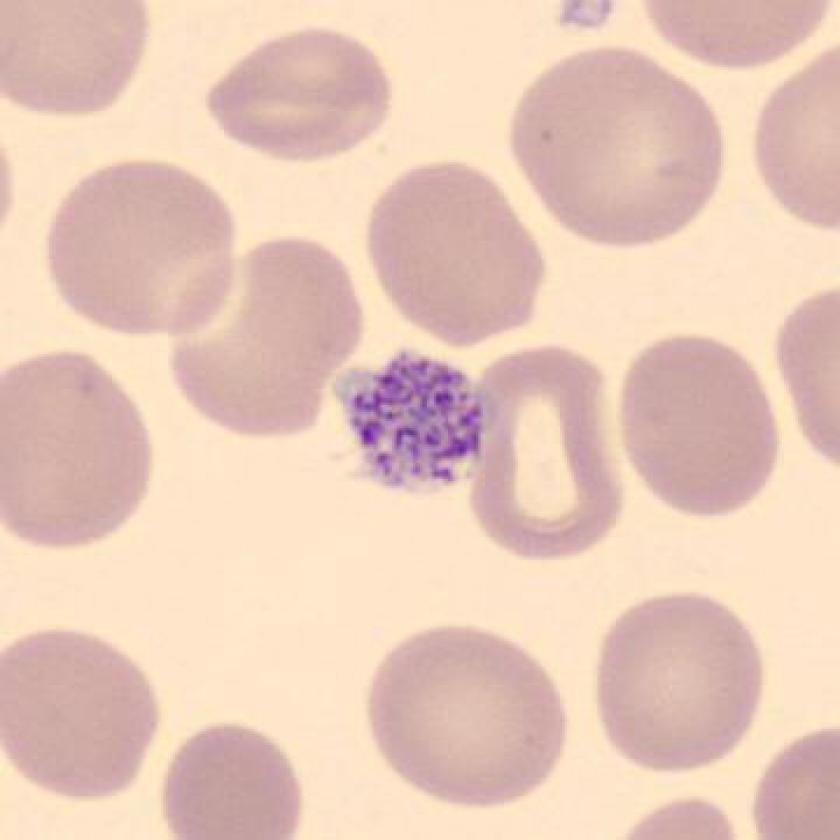platelets: (335, 346, 486, 494)
